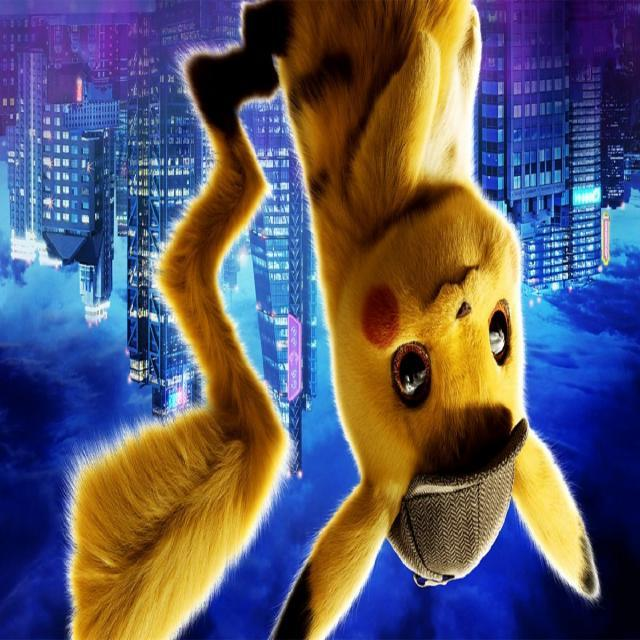Pikachu: (70, 0, 621, 630)
